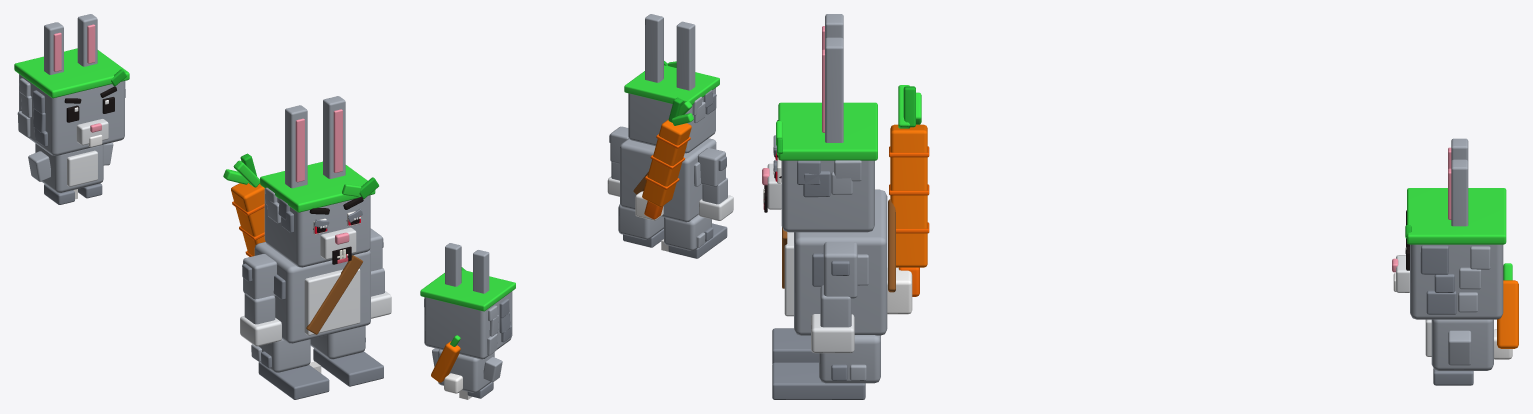
File: Restyle_B02.fbx
The picture shows the model from 3 angles, left to right: view 1: azimuth 30°, elevation 25°; view 2: azimuth 150°, elevation 25°; view 3: azimuth 270°, elevation 25°; orthographic projection. The views are drawn at different scales.
Visible parts, largest first — view 1: B02__Head, P02__Head, B02__Body, B02__Head_Leaf, P02__Head_Leaf, B02__Body_Light, P02__Body, B02__RightLeg_FurDark, B02__LeftLeg_FurDark, B02__Body_Carrot, B02__Head_Pink, B02__RightLeg (+17 smaller); view 2: B02__Head, P02__Head, B02__Body, B02__Body_Carrot, P02__Head_Leaf, B02__Head_Leaf, P02__Body, B02__RightLeg, B02__LeftLeg, B02__RightUpperArm, B02__RightLeg_FurDark, P02__Body_Carrot (+9 smaller); view 3: B02__Head, P02__Head, B02__Body, B02__Head_Leaf, P02__Head_Leaf, B02__Body_Carrot, P02__Body, B02__LeftLeg_FurDark, B02__LeftLeg, P02__Head_FurDark, B02__LeftUpperArm, B02__LeftHand (+8 smaller).
Boxes of the visible parts, x1=… form: B02__Head: x1=264, y1=96, x2=370, y2=267; P02__Head: x1=17, y1=14, x2=124, y2=155; B02__Body: x1=254, y1=242, x2=370, y2=343; B02__Head_Leaf: x1=260, y1=161, x2=375, y2=212; P02__Head_Leaf: x1=14, y1=48, x2=129, y2=98; B02__Body_Light: x1=304, y1=268, x2=360, y2=335; P02__Body: x1=28, y1=142, x2=113, y2=192; B02__RightLeg_FurDark: x1=258, y1=351, x2=329, y2=399; B02__LeftLeg_FurDark: x1=313, y1=338, x2=383, y2=386; B02__Body_Carrot: x1=231, y1=183, x2=265, y2=256; B02__Head_Pink: x1=295, y1=109, x2=349, y2=244; B02__RightLeg: x1=251, y1=339, x2=310, y2=372; B02__Head: x1=628, y1=14, x2=715, y2=153; P02__Head: x1=424, y1=243, x2=512, y2=359; B02__Body: x1=620, y1=138, x2=716, y2=222; B02__Body_Carrot: x1=642, y1=119, x2=691, y2=206; P02__Head_Leaf: x1=420, y1=270, x2=515, y2=311; B02__Head_Leaf: x1=624, y1=61, x2=719, y2=104; P02__Body: x1=432, y1=348, x2=502, y2=392; B02__RightLeg: x1=664, y1=214, x2=711, y2=250; B02__LeftLeg: x1=618, y1=204, x2=663, y2=239; B02__RightUpperArm: x1=697, y1=148, x2=725, y2=186; B02__RightLeg_FurDark: x1=668, y1=223, x2=727, y2=258; P02__Body_Carrot: x1=431, y1=341, x2=460, y2=382; B02__Head: x1=781, y1=14, x2=874, y2=232; P02__Head: x1=1410, y1=138, x2=1503, y2=319; B02__Body: x1=794, y1=189, x2=887, y2=335; B02__Head_Leaf: x1=776, y1=102, x2=877, y2=160; P02__Head_Leaf: x1=1407, y1=188, x2=1506, y2=244; B02__Body_Carrot: x1=890, y1=124, x2=927, y2=267; P02__Body: x1=1431, y1=319, x2=1493, y2=370; B02__LeftLeg_FurDark: x1=772, y1=362, x2=865, y2=399; B02__LeftLeg: x1=819, y1=335, x2=880, y2=383; P02__Head_FurDark: x1=1420, y1=245, x2=1456, y2=314; B02__LeftUpperArm: x1=823, y1=242, x2=857, y2=298; B02__LeftHand: x1=811, y1=314, x2=854, y2=353.
Size of the model in its own units: 1300 by 2480 by 4865.
